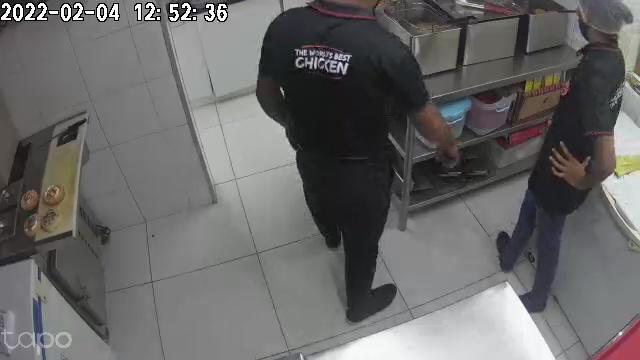no_gloves: (551, 141, 589, 188)
